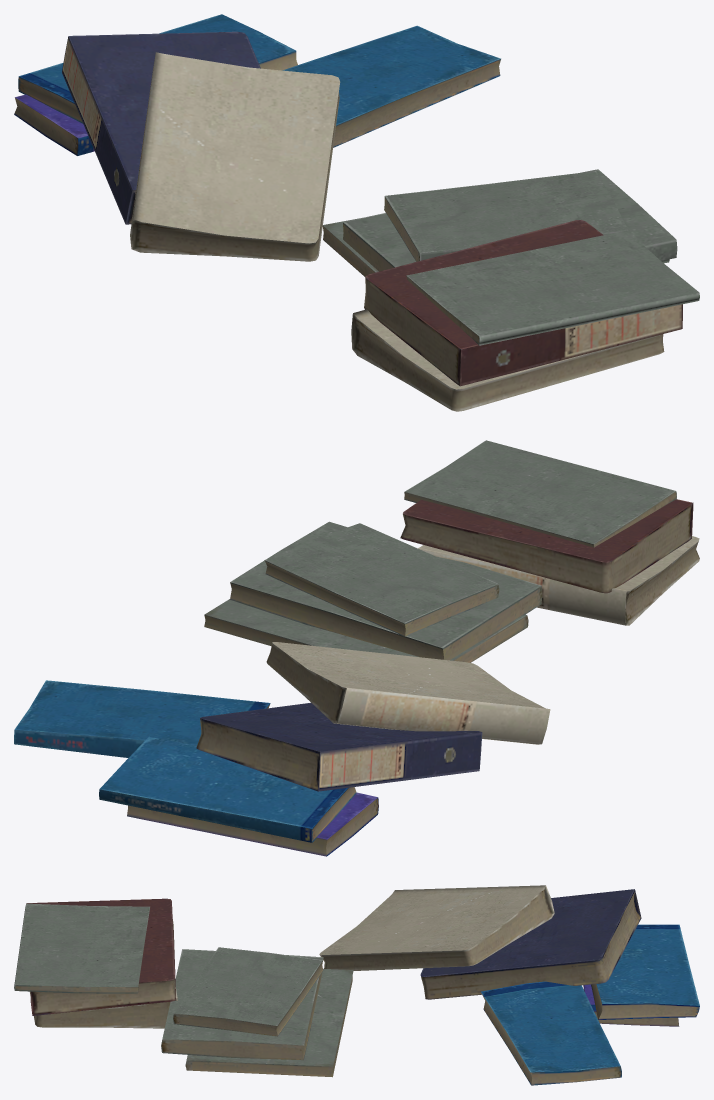
Rendered from sm39_005_deskset01b.fbx.
3 renders of one model, top to bottom at view 1: azimuth 30°, elevation 25°; view 2: azimuth 150°, elevation 25°; view 3: azimuth 270°, elevation 25°, orthographic. The views are drawn at different scales.
Visible parts, largest first — view 1: LOD_1_Group_7_Sub_1__sm36_007_PaperWork01A_A_Mat, LOD_1_Group_8_Sub_1__sm36_007_PaperWork01A_A_Mat, LOD_1_Group_9_Sub_1__sm36_007_PaperWork01A_A_Mat, LOD_1_Group_4_Sub_1__sm36_007_PaperWork01A_A_Mat, LOD_1_Group_6_Sub_1__sm36_007_PaperWork01A_A_Mat, LOD_1_Group_2_Sub_1__sm36_007_PaperWork01A_A_Mat, LOD_1_Group_1_Sub_1__sm36_007_PaperWork01A_A_Mat, LOD_1_Group_3_Sub_1__sm36_007_PaperWork01A_A_Mat, LOD_1_Group_0_Sub_1__sm36_007_PaperWork01A_A_Mat, LOD_1_Group_5_Sub_1__sm36_007_PaperWork01A_A_Mat; view 2: LOD_1_Group_7_Sub_1__sm36_007_PaperWork01A_A_Mat, LOD_1_Group_4_Sub_1__sm36_007_PaperWork01A_A_Mat, LOD_1_Group_8_Sub_1__sm36_007_PaperWork01A_A_Mat, LOD_1_Group_6_Sub_1__sm36_007_PaperWork01A_A_Mat, LOD_1_Group_0_Sub_1__sm36_007_PaperWork01A_A_Mat, LOD_1_Group_9_Sub_1__sm36_007_PaperWork01A_A_Mat, LOD_1_Group_2_Sub_1__sm36_007_PaperWork01A_A_Mat, LOD_1_Group_3_Sub_1__sm36_007_PaperWork01A_A_Mat, LOD_1_Group_1_Sub_1__sm36_007_PaperWork01A_A_Mat, LOD_1_Group_5_Sub_1__sm36_007_PaperWork01A_A_Mat; view 3: LOD_1_Group_7_Sub_1__sm36_007_PaperWork01A_A_Mat, LOD_1_Group_4_Sub_1__sm36_007_PaperWork01A_A_Mat, LOD_1_Group_8_Sub_1__sm36_007_PaperWork01A_A_Mat, LOD_1_Group_2_Sub_1__sm36_007_PaperWork01A_A_Mat, LOD_1_Group_6_Sub_1__sm36_007_PaperWork01A_A_Mat, LOD_1_Group_0_Sub_1__sm36_007_PaperWork01A_A_Mat, LOD_1_Group_3_Sub_1__sm36_007_PaperWork01A_A_Mat, LOD_1_Group_9_Sub_1__sm36_007_PaperWork01A_A_Mat, LOD_1_Group_5_Sub_1__sm36_007_PaperWork01A_A_Mat, LOD_1_Group_1_Sub_1__sm36_007_PaperWork01A_A_Mat.
Part boxes in pixels (<box>): LOD_1_Group_7_Sub_1__sm36_007_PaperWork01A_A_Mat: <box>130,52,340,261</box>; LOD_1_Group_8_Sub_1__sm36_007_PaperWork01A_A_Mat: <box>406,230,699,345</box>; LOD_1_Group_9_Sub_1__sm36_007_PaperWork01A_A_Mat: <box>364,219,682,386</box>; LOD_1_Group_4_Sub_1__sm36_007_PaperWork01A_A_Mat: <box>62,31,260,224</box>; LOD_1_Group_6_Sub_1__sm36_007_PaperWork01A_A_Mat: <box>384,171,628,261</box>; LOD_1_Group_2_Sub_1__sm36_007_PaperWork01A_A_Mat: <box>282,25,500,147</box>; LOD_1_Group_1_Sub_1__sm36_007_PaperWork01A_A_Mat: <box>14,94,664,411</box>; LOD_1_Group_3_Sub_1__sm36_007_PaperWork01A_A_Mat: <box>343,169,677,271</box>; LOD_1_Group_0_Sub_1__sm36_007_PaperWork01A_A_Mat: <box>18,14,297,123</box>; LOD_1_Group_5_Sub_1__sm36_007_PaperWork01A_A_Mat: <box>322,218,669,276</box>; LOD_1_Group_7_Sub_1__sm36_007_PaperWork01A_A_Mat: <box>266,642,550,744</box>; LOD_1_Group_4_Sub_1__sm36_007_PaperWork01A_A_Mat: <box>196,702,482,791</box>; LOD_1_Group_8_Sub_1__sm36_007_PaperWork01A_A_Mat: <box>404,440,676,547</box>; LOD_1_Group_6_Sub_1__sm36_007_PaperWork01A_A_Mat: <box>264,523,499,636</box>; LOD_1_Group_0_Sub_1__sm36_007_PaperWork01A_A_Mat: <box>99,736,356,842</box>; LOD_1_Group_9_Sub_1__sm36_007_PaperWork01A_A_Mat: <box>400,499,693,593</box>; LOD_1_Group_2_Sub_1__sm36_007_PaperWork01A_A_Mat: <box>14,680,270,757</box>; LOD_1_Group_3_Sub_1__sm36_007_PaperWork01A_A_Mat: <box>230,521,542,660</box>; LOD_1_Group_1_Sub_1__sm36_007_PaperWork01A_A_Mat: <box>127,536,699,856</box>; LOD_1_Group_5_Sub_1__sm36_007_PaperWork01A_A_Mat: <box>204,599,528,662</box>; LOD_1_Group_7_Sub_1__sm36_007_PaperWork01A_A_Mat: <box>319,885,554,970</box>; LOD_1_Group_4_Sub_1__sm36_007_PaperWork01A_A_Mat: <box>420,889,641,999</box>; LOD_1_Group_8_Sub_1__sm36_007_PaperWork01A_A_Mat: <box>14,903,149,993</box>; LOD_1_Group_2_Sub_1__sm36_007_PaperWork01A_A_Mat: <box>481,981,621,1085</box>; LOD_1_Group_6_Sub_1__sm36_007_PaperWork01A_A_Mat: <box>173,947,323,1036</box>; LOD_1_Group_0_Sub_1__sm36_007_PaperWork01A_A_Mat: <box>591,924,699,1019</box>; LOD_1_Group_3_Sub_1__sm36_007_PaperWork01A_A_Mat: <box>161,949,323,1060</box>; LOD_1_Group_9_Sub_1__sm36_007_PaperWork01A_A_Mat: <box>26,898,175,1015</box>; LOD_1_Group_5_Sub_1__sm36_007_PaperWork01A_A_Mat: <box>185,968,353,1077</box>; LOD_1_Group_1_Sub_1__sm36_007_PaperWork01A_A_Mat: <box>30,984,679,1028</box>.
Size of the model in its own units: 0.6671 by 0.1615 by 1.14.
